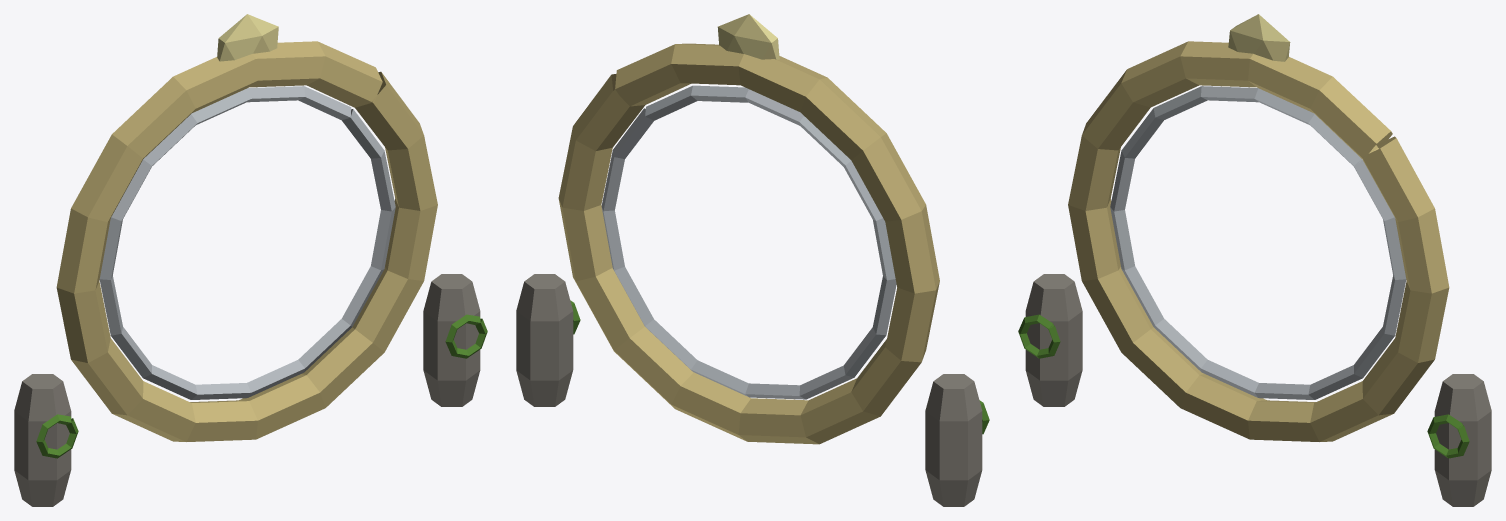
The model's file is elf_landmark.glb.
3 renders of one model, left to right at view 1: azimuth 30°, elevation 25°; view 2: azimuth 150°, elevation 25°; view 3: azimuth 330°, elevation 25°, orthographic.
Parts seen in each view (by area): view 1: elf_landmark; view 2: elf_landmark; view 3: elf_landmark.
Part boxes in pixels (x1=…): elf_landmark: x1=14, y1=14, x2=487, y2=506; elf_landmark: x1=516, y1=14, x2=989, y2=506; elf_landmark: x1=1018, y1=14, x2=1491, y2=506.
Size of the model in its own units: 3.2 by 2.95 by 0.385.
